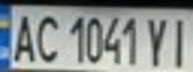0: (84, 12, 106, 64)
1: (121, 12, 142, 66), (63, 11, 84, 64)
4: (103, 12, 124, 65)
A: (6, 10, 39, 63)
C: (30, 10, 63, 63)
I: (163, 13, 193, 69)
Y: (142, 12, 172, 69)
